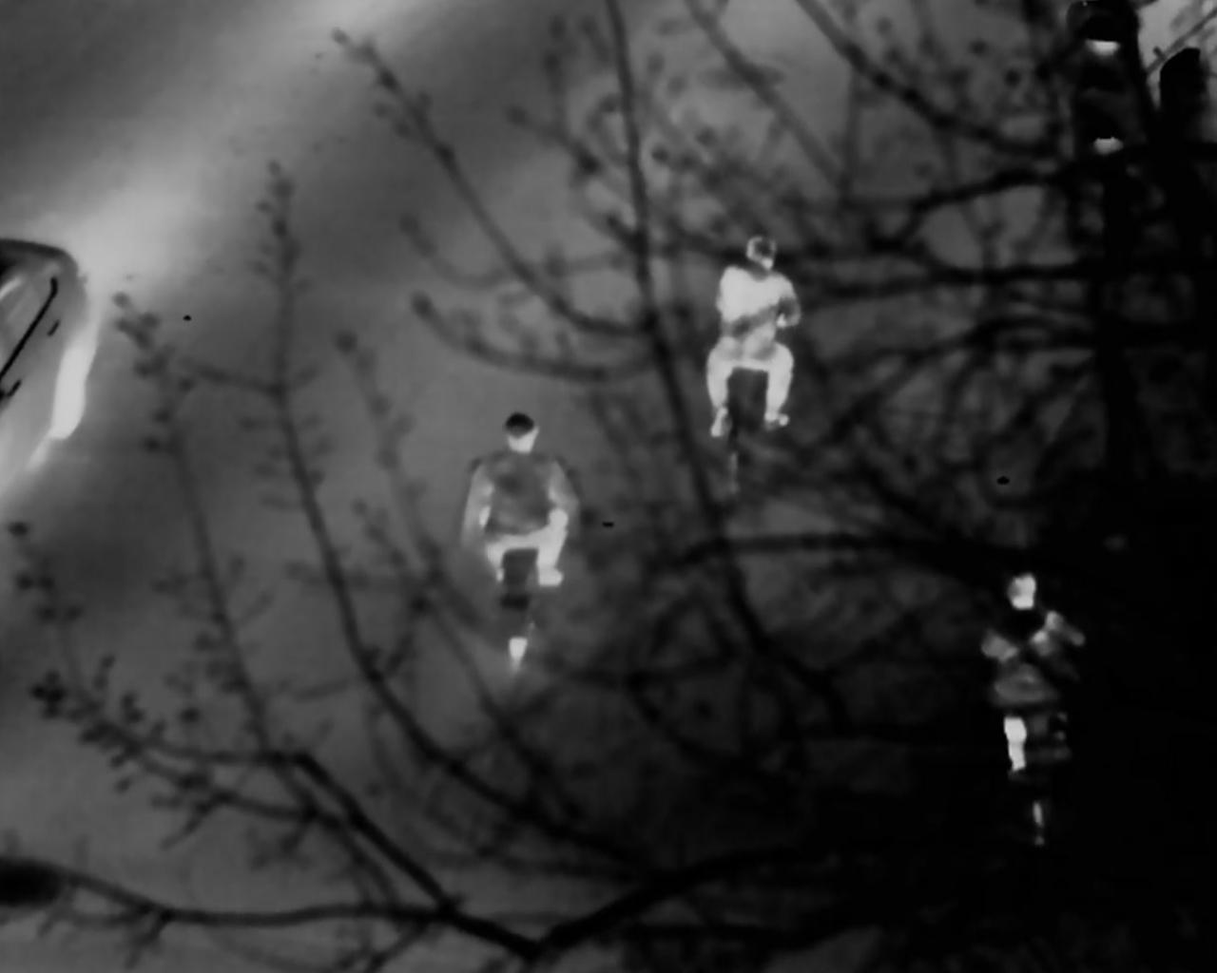person: (470, 416, 571, 606), (997, 574, 1081, 792), (713, 235, 800, 441)
